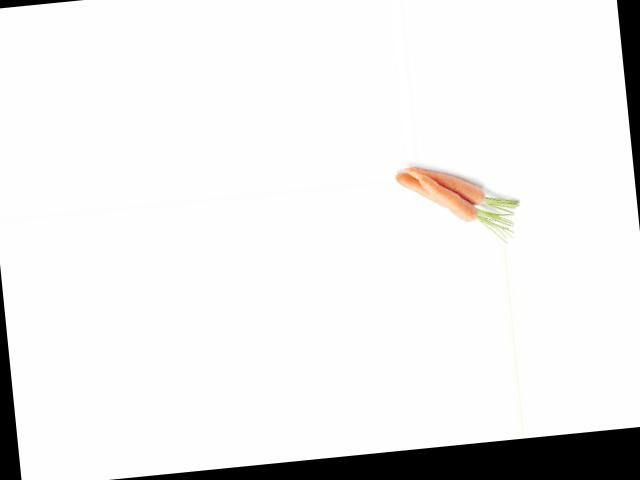carrot: (400, 156, 500, 211)
